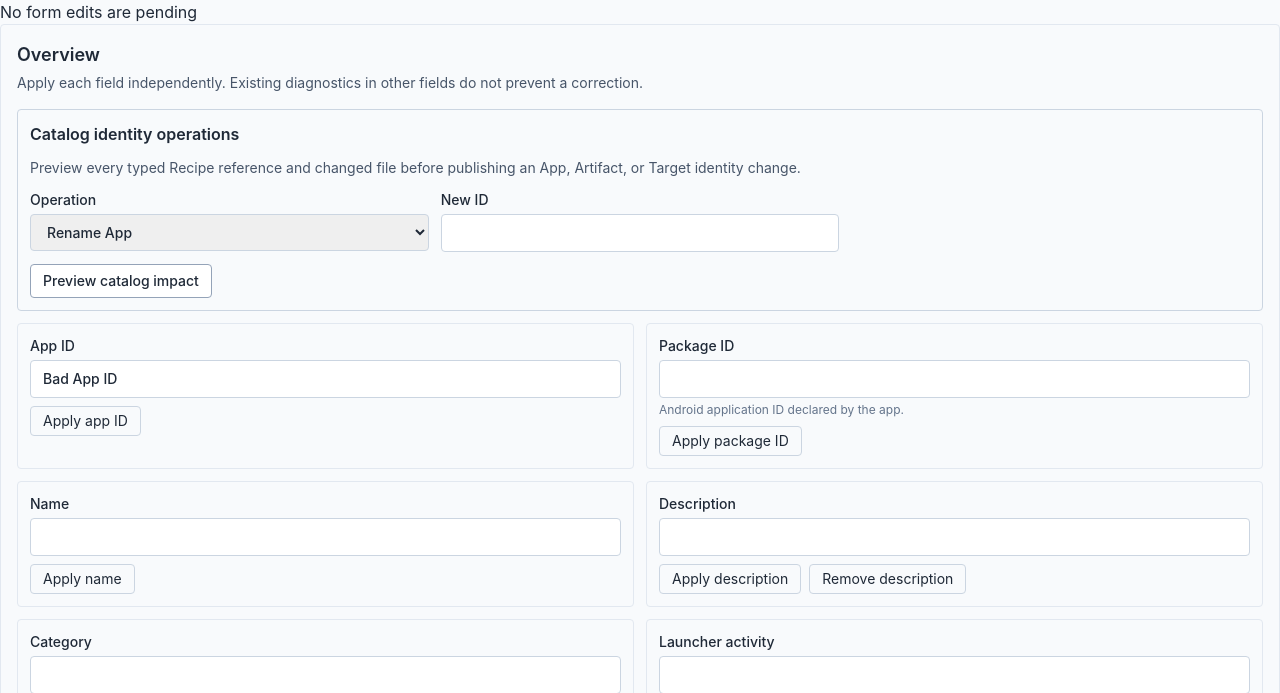
AppDefinitionEditor › discovers a newly unresolved publication immediately after apply
The image size is (1280, 693).
Step 1. Type "renamed_app" into the field labelled "New ID" → (640, 233), box [441, 214, 839, 252]
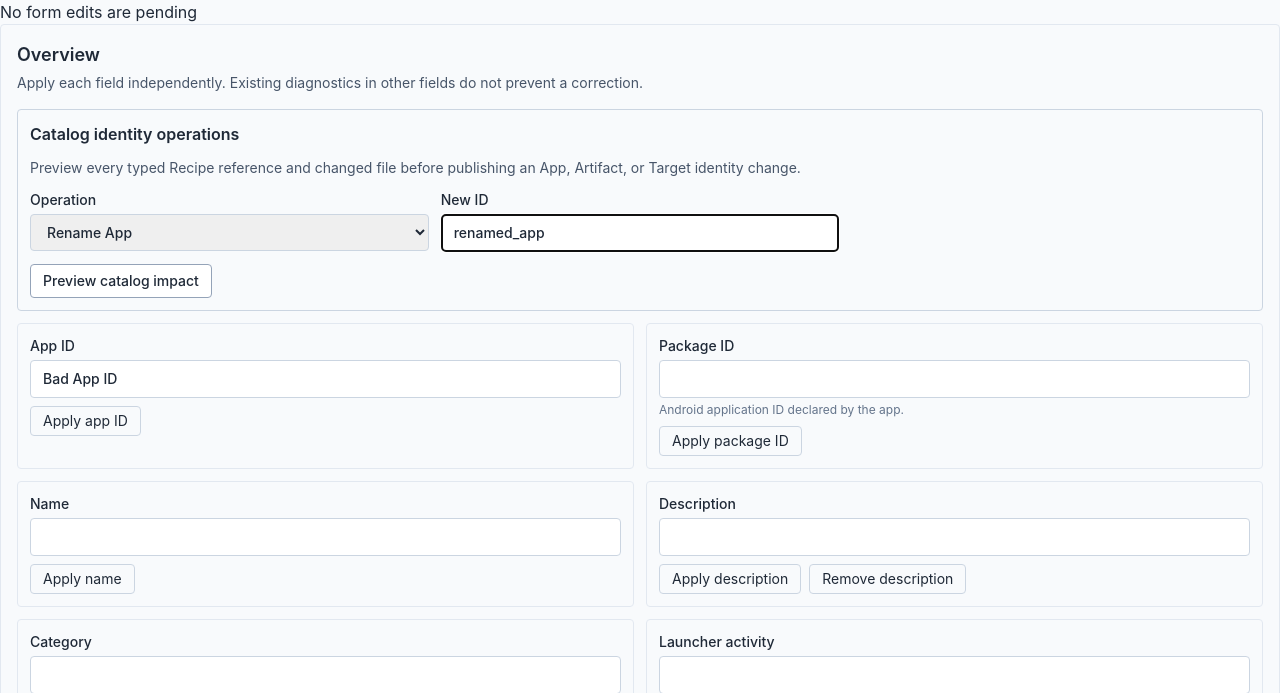
Step 2. Click the button "Preview catalog impact" → click(121, 281), box [30, 264, 212, 298]
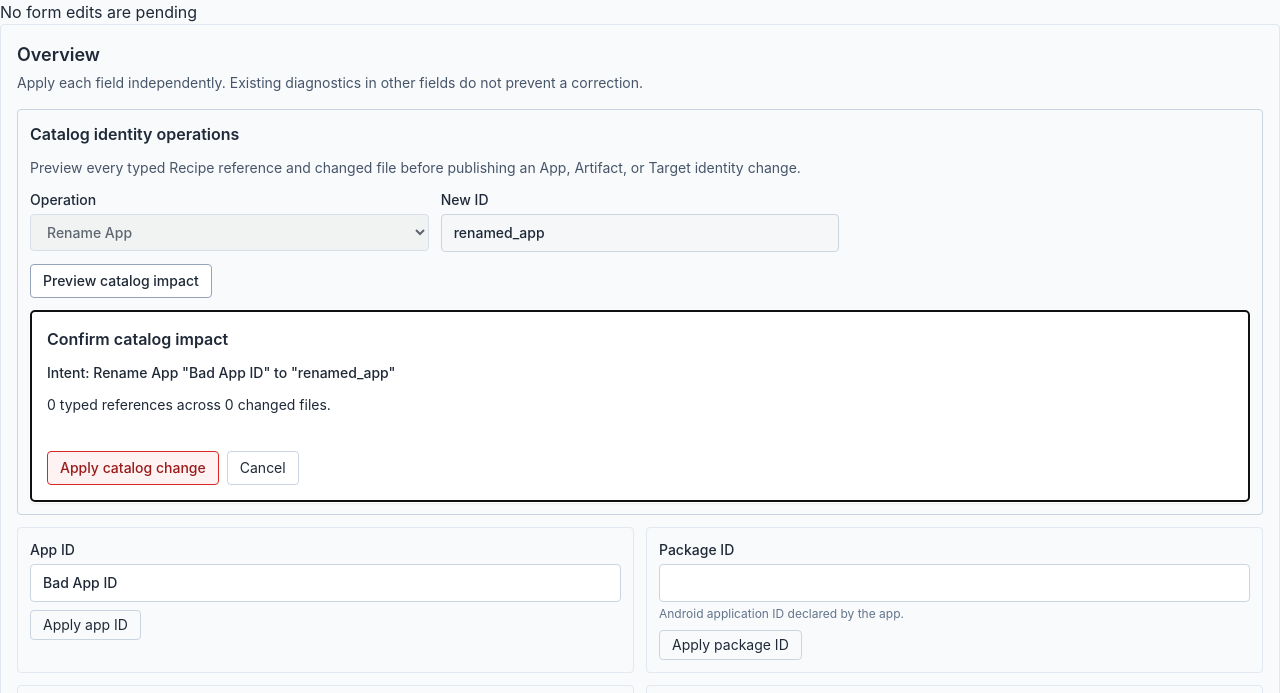
Step 3. Click the button "Apply catalog change" → click(133, 468), box [47, 451, 219, 485]
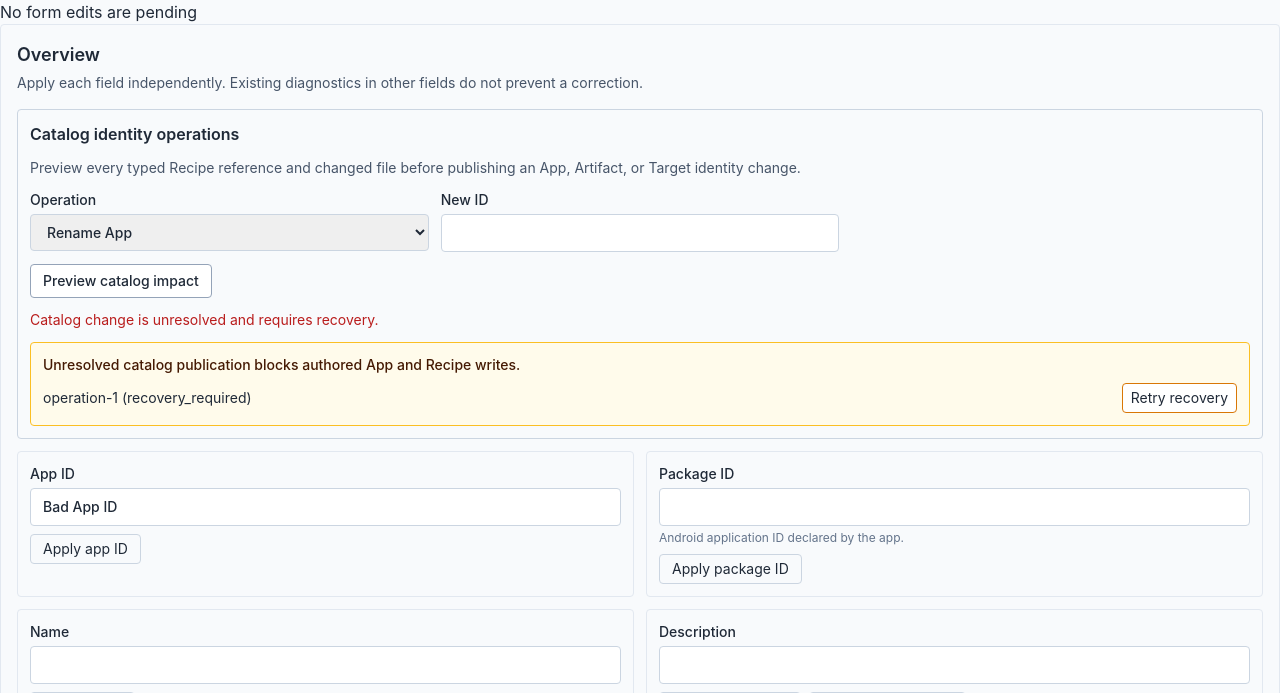
Expected: the text "Catalog change is unresolved and requires recovery." is shown, [30, 311, 378, 328]
Expected: the button "Retry recovery" is shown, [1122, 383, 1237, 413]
